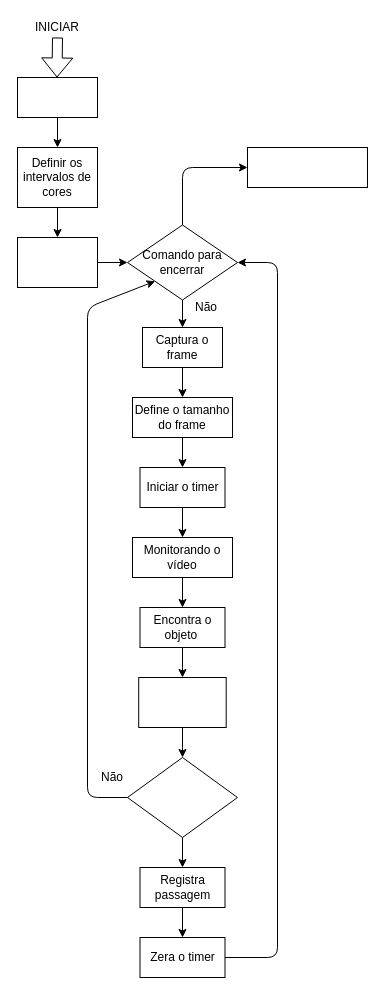
The diagram is 385 pixels wide and 995 high, and some of its shapes have lost their labels. The centre of each missing label's shape, as x and y in pixels:
"Captura de vídeo" belongs at point (57, 97).
"Definir um timer" belongs at point (57, 262).
"Encerrar o programa" belongs at point (307, 167).
"Encontra o centro do objeto" belongs at point (182, 702).
"Objeto passou" belongs at point (182, 797).
